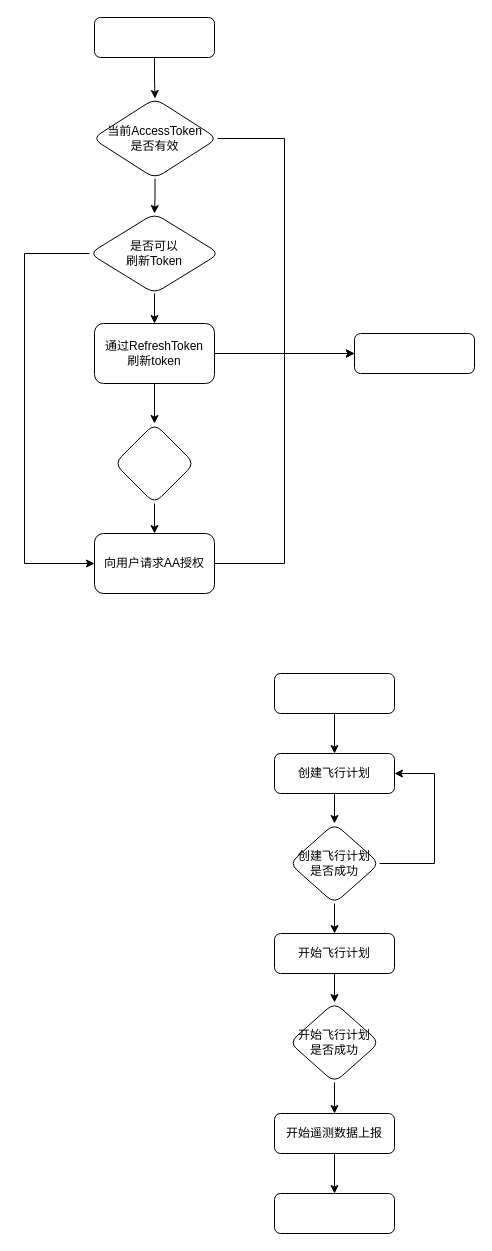
Image size: 492x1251. Some labels were removed from this diagram. The box of each missing label's shape, as (x1, y1, x2, y2) in pixels:
APP下发航线任务: (274, 672, 394, 714)
刷新Token 是否成功: (114, 422, 194, 504)
获取AccessToken: (94, 16, 214, 58)
返回AccessToken: (354, 332, 474, 374)
连接Outbound: (274, 1192, 394, 1234)
